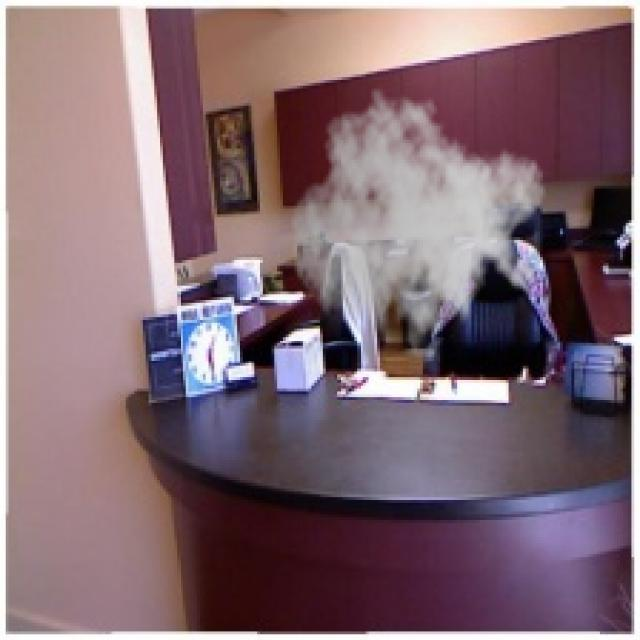smoke: (288, 85, 548, 368)
